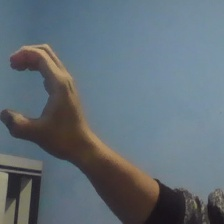C: (1, 40, 82, 166)
